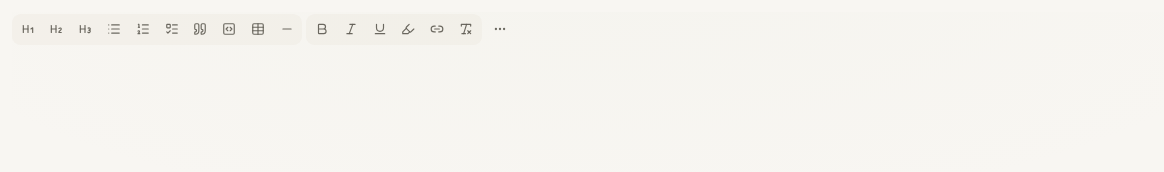
Test case: EditorToolbar › expands a second row for overflow formatting
Later steps or results of the test are not shown.
Click the button named "More formatting". click: coordinates (500, 29)
box: [486,15,514,43]
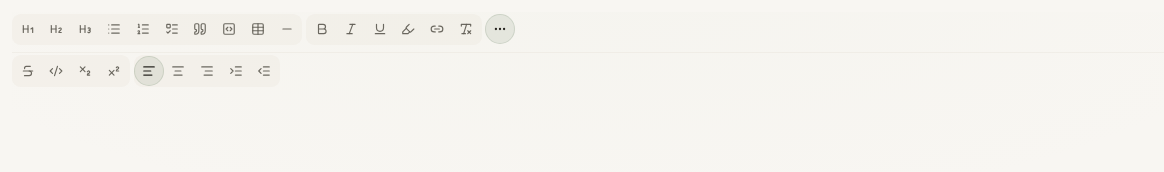
Result: the element named "More formatting" is shown at [12,52,1163,88]
